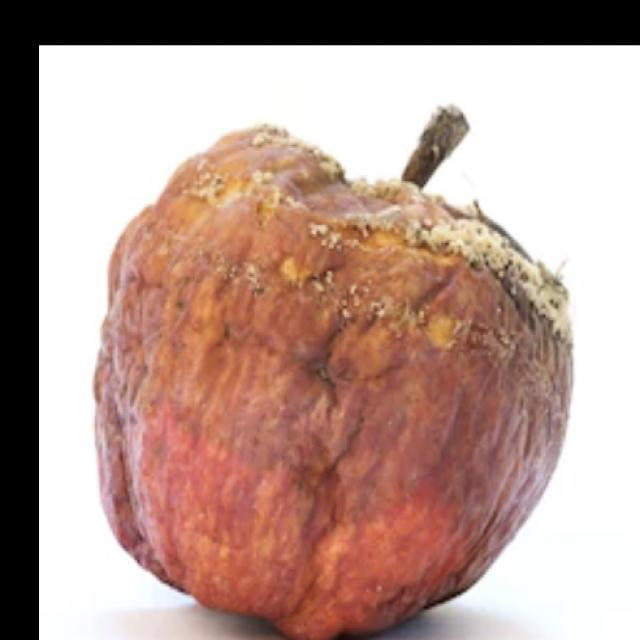Rotten: (98, 136, 574, 640)
